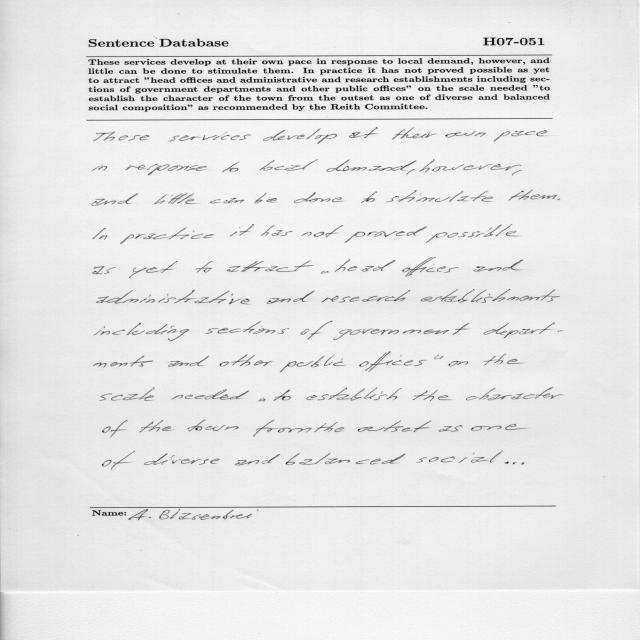word: (334, 323, 470, 340), (97, 290, 250, 305), (421, 289, 560, 303), (426, 224, 520, 243), (94, 323, 189, 341), (120, 227, 214, 244), (286, 453, 406, 465), (344, 226, 427, 243), (359, 352, 427, 372), (420, 160, 522, 173), (386, 190, 493, 202), (484, 323, 564, 339), (466, 387, 563, 400), (306, 388, 402, 401), (263, 128, 337, 144), (327, 159, 417, 172), (402, 257, 459, 277), (416, 450, 503, 463), (280, 356, 346, 373), (206, 321, 290, 334), (322, 290, 410, 302), (126, 164, 207, 176), (227, 261, 314, 272), (253, 420, 312, 436), (144, 453, 220, 465), (358, 420, 432, 432), (172, 389, 249, 400), (129, 261, 178, 278), (169, 132, 251, 142), (335, 259, 395, 272), (100, 387, 155, 401), (94, 356, 153, 368), (220, 354, 273, 367), (260, 160, 318, 171), (103, 451, 136, 470), (267, 291, 315, 304), (474, 260, 523, 272), (494, 131, 547, 142), (301, 321, 333, 339), (188, 420, 239, 431), (92, 194, 138, 206), (94, 132, 149, 142), (294, 192, 344, 203), (302, 225, 344, 238), (392, 128, 437, 140), (509, 190, 557, 201), (235, 454, 280, 465), (154, 193, 198, 204), (484, 354, 523, 366), (168, 356, 209, 367), (413, 390, 452, 401), (103, 420, 128, 437), (139, 420, 174, 432), (471, 424, 527, 431), (261, 225, 293, 236), (230, 224, 254, 237), (315, 422, 345, 432), (349, 128, 378, 138), (445, 131, 486, 138), (254, 193, 277, 203), (273, 389, 291, 401), (196, 261, 213, 273), (93, 267, 116, 275), (222, 162, 240, 172), (361, 192, 377, 203), (210, 198, 244, 203), (93, 228, 107, 240), (439, 425, 463, 432), (448, 361, 468, 366), (93, 165, 107, 171), (505, 461, 525, 465), (406, 169, 415, 176), (512, 170, 522, 176), (435, 355, 444, 359), (259, 398, 266, 402), (321, 271, 329, 274), (557, 199, 560, 200)
